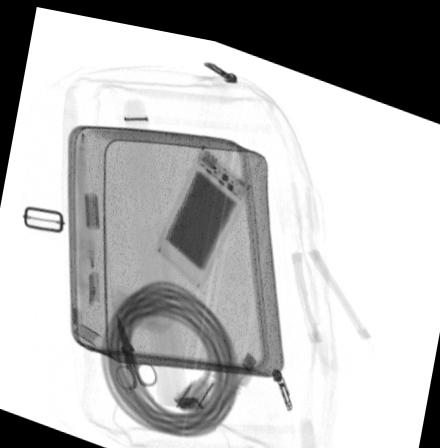Powerbank: (149, 136, 252, 286)
Scissors: (111, 306, 157, 385)
